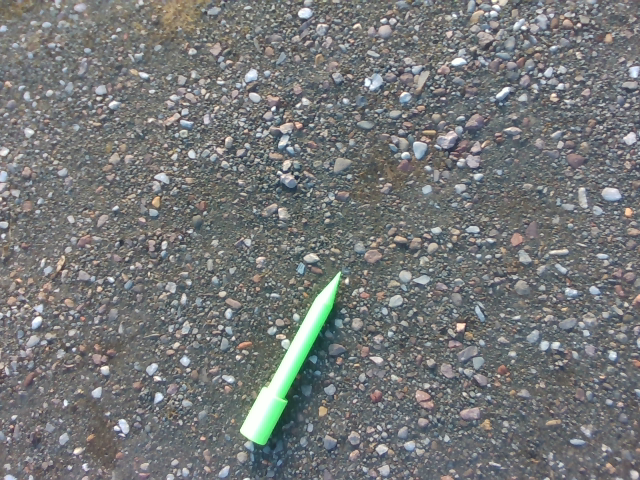Probe: (235, 266, 344, 452)
